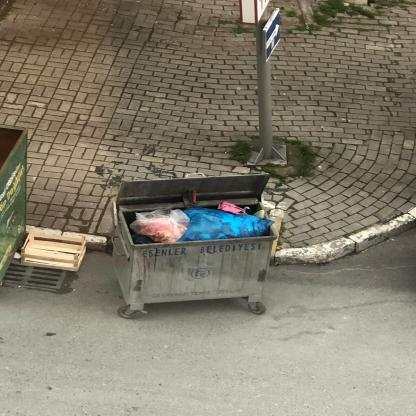Garbage: (110, 176, 284, 322), (130, 210, 272, 240), (198, 204, 273, 237), (134, 207, 192, 244)
